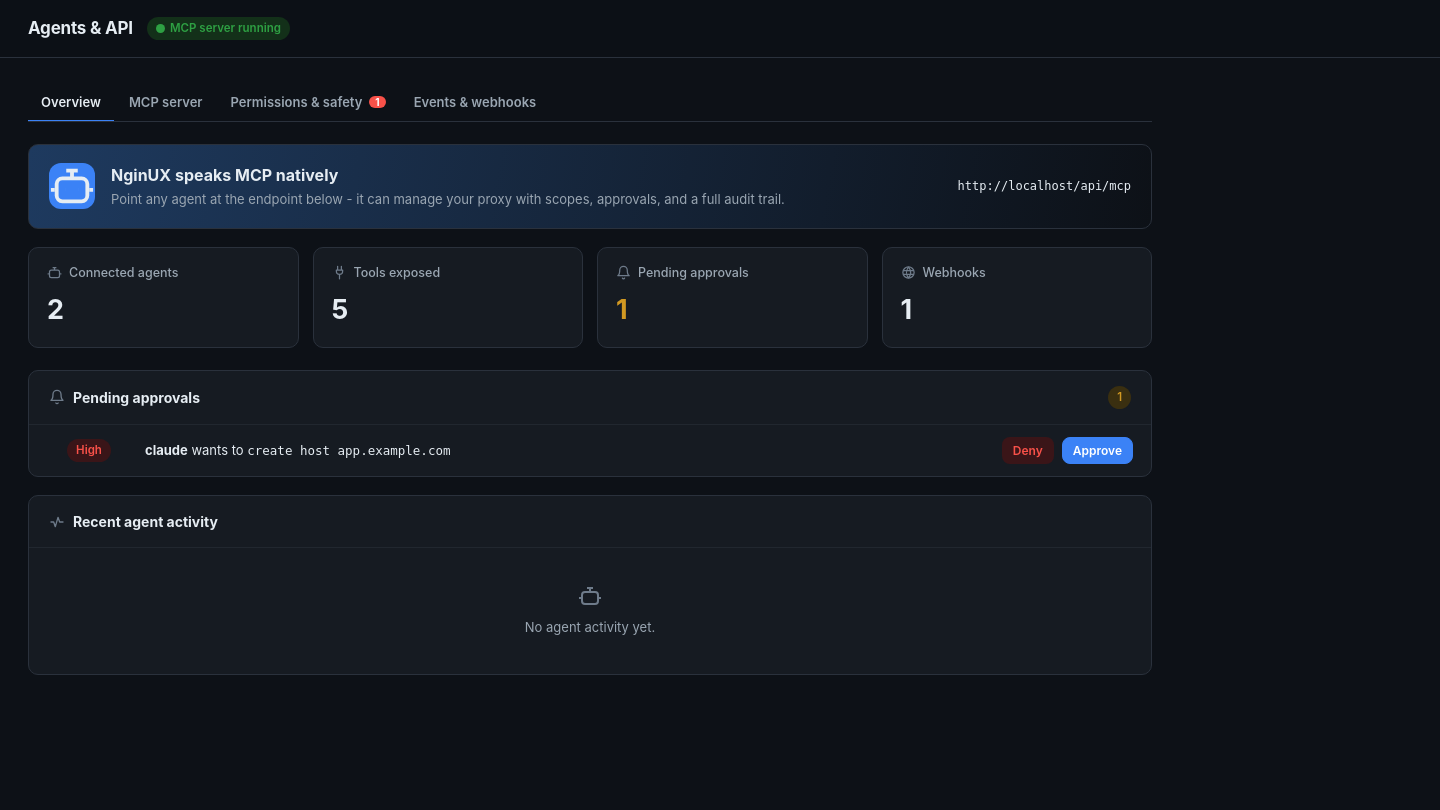
AgentsApi — overview › surfaces a decision error instead of swallowing it
Check: the text "Connected agents" is shown, box [47,264,178,280]
Click the button "Deny". click: (1028, 450)
box: [1002,437,1054,464]
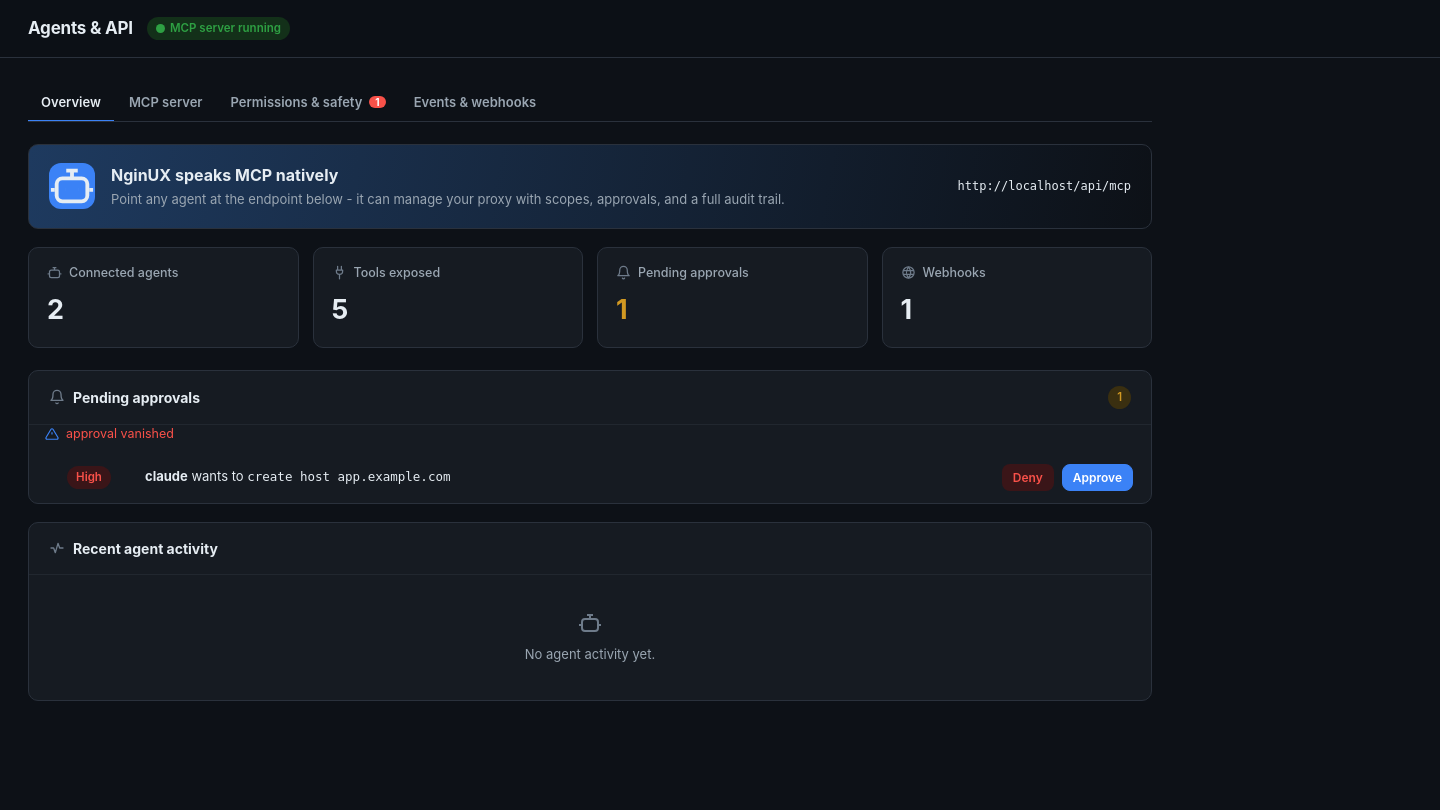
Check: the message reads "approval vanished", box [66,426,174,441]
